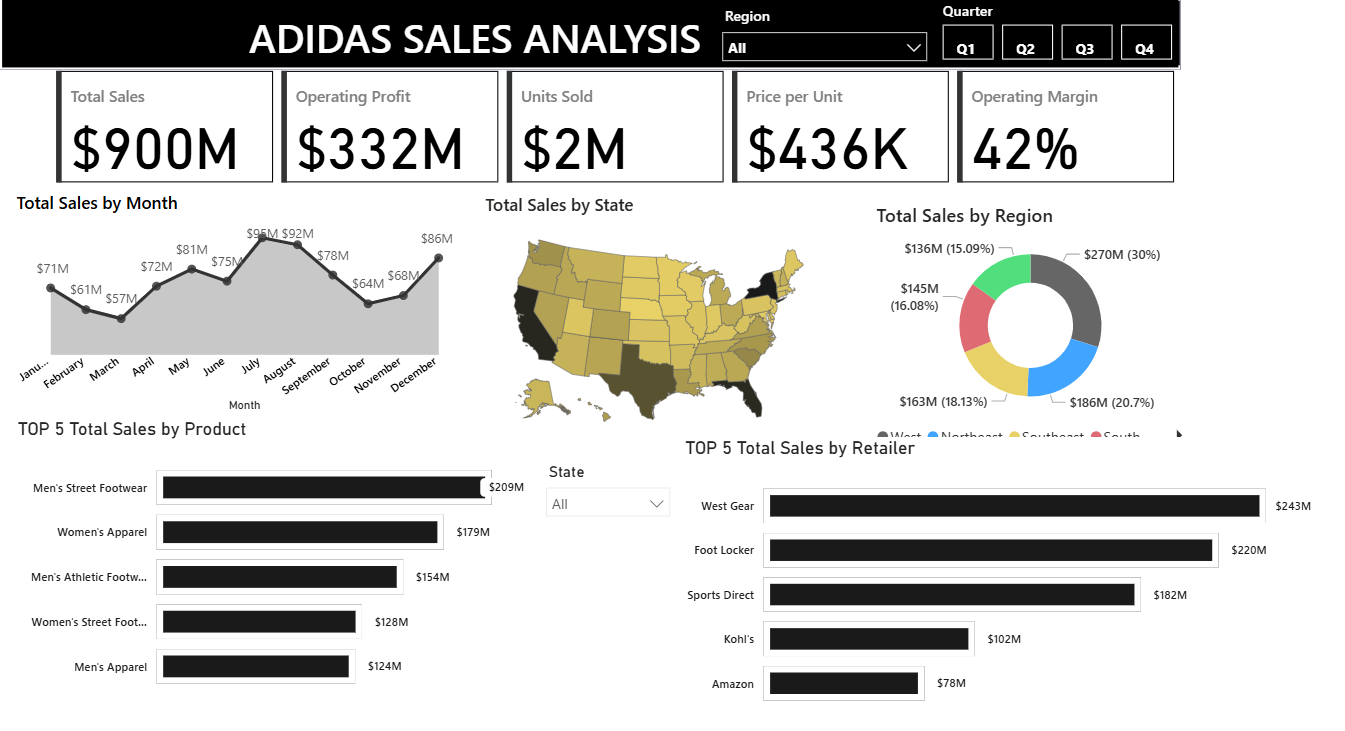

The page's visual inventory and layout, read from the dashboard file:
{"tool":"powerbi","page":{"name":"Page 1","canvas":[1280,720],"ordinal":0},"visuals":[{"type":"shape","box":[0,0,1111,68.3],"z":0},{"type":"textbox","box":[229.3,8.5,520.7,59.8],"z":1000},{"type":"cardVisual","fields":{"Data":["Sum(Data Sales Adidas.Total Sales)","Sum(Data Sales Adidas.Operating Profit)","Sum(Data Sales Adidas.Units Sold)","Sum(Data Sales Adidas.Price per Unit)","Avg(Data Sales Adidas.Operating Margin)"]},"box":[0,68.6,1062.8,115.1],"z":2000},{"type":"areaChart","title":"Total Sales by Month","fields":{"Category":["Data Sales Adidas.Invoice Date.Variation.Date Hierarchy.Month"],"Y":["Sum(Data Sales Adidas.Total Sales)"]},"box":[11,182.9,420.7,213.4],"z":3000},{"type":"shapeMap","title":"Total Sales by State","fields":{"Category":["Data Sales Adidas.State"],"Value":["Sum(Data Sales Adidas.Total Sales)"]},"box":[451.8,183.1,325.3,239.8],"z":4000},{"type":"donutChart","title":"Total Sales by Region","fields":{"Category":["Data Sales Adidas.Region"],"Y":["Sum(Data Sales Adidas.Total Sales)"]},"box":[791.6,184.3,300,239.8],"z":5000},{"type":"clusteredBarChart","title":"TOP 5  Total Sales by Product","fields":{"Category":["Data Sales Adidas.Product"],"Y":["Sum(Data Sales Adidas.Total Sales)"]},"box":[0,414.5,490.4,271.1],"z":6000},{"type":"clusteredBarChart","title":"TOP 5  Total Sales by Retailer","fields":{"Y":["Sum(Data Sales Adidas.Total Sales)"],"Category":["Data Sales Adidas.Retailer"]},"box":[490.2,424.4,603.7,270.7],"z":7000},{"type":"slicer","fields":{"Values":["Data Sales Adidas.State"]},"box":[0,396.3,167.1,52.4],"z":8000},{"type":"slicer","fields":{"Values":["Data Sales Adidas.Region"]},"box":[669.5,3.7,213.4,61],"z":9000},{"type":"advancedSlicerVisual","title":"Quarter","fields":{"Values":["Data Sales Adidas.quarter"]},"box":[882.9,3.7,228,61],"z":9001}]}

Visuals, with their boxes on the page's 1280x720 design canvas (x1, y1, x2, y2). These are canvas units, not pixel positions in the 1345x731 screenshot, which may show the page scaled, cropped or inside an application window:
shape: region(0, 0, 1111, 68)
textbox: region(229, 8, 750, 68)
cardVisual - Sum(Data Sales Adidas.Total Sales) x Sum(Data Sales Adidas.Operating Profit): region(0, 69, 1063, 184)
"Total Sales by Month" areaChart: region(11, 183, 432, 396)
"Total Sales by State" shapeMap: region(452, 183, 777, 423)
"Total Sales by Region" donutChart: region(792, 184, 1092, 424)
"TOP 5  Total Sales by Product" clusteredBarChart: region(0, 414, 490, 686)
"TOP 5  Total Sales by Retailer" clusteredBarChart: region(490, 424, 1094, 695)
slicer - Data Sales Adidas.State: region(0, 396, 167, 449)
slicer - Data Sales Adidas.Region: region(670, 4, 883, 65)
"Quarter" advancedSlicerVisual: region(883, 4, 1111, 65)
